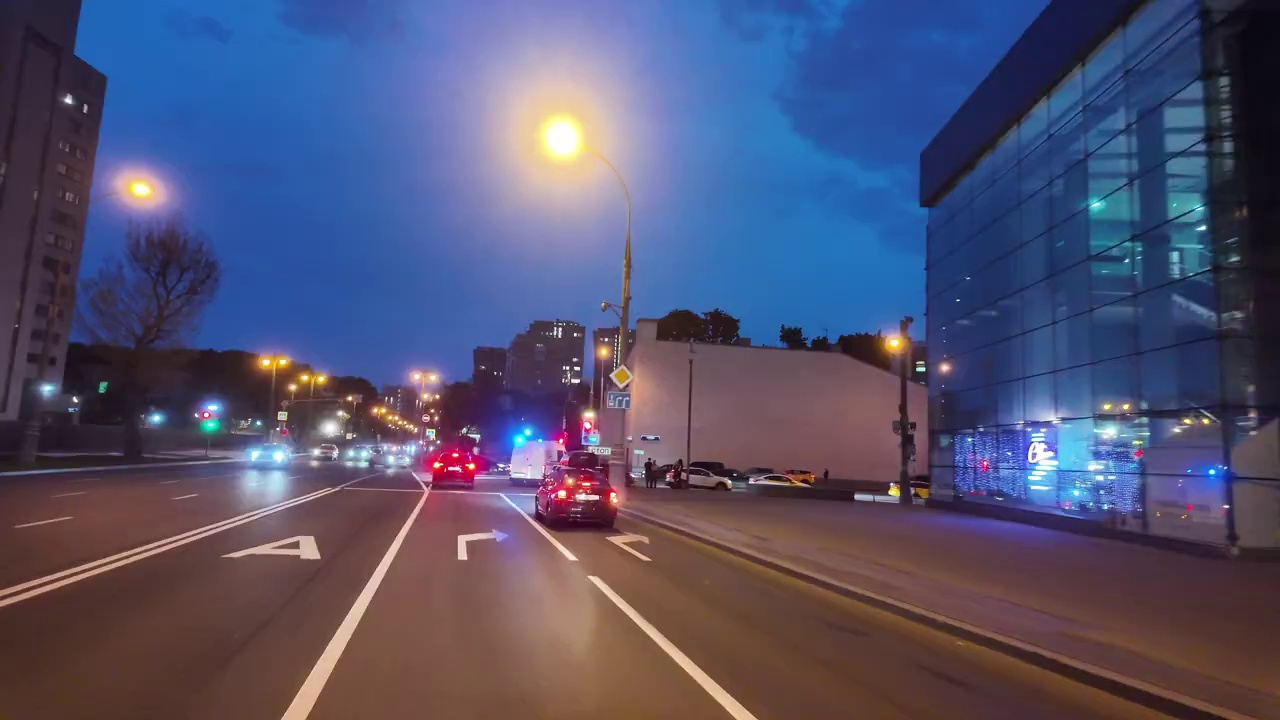acesa: (529, 110, 589, 171), (121, 173, 161, 208)
